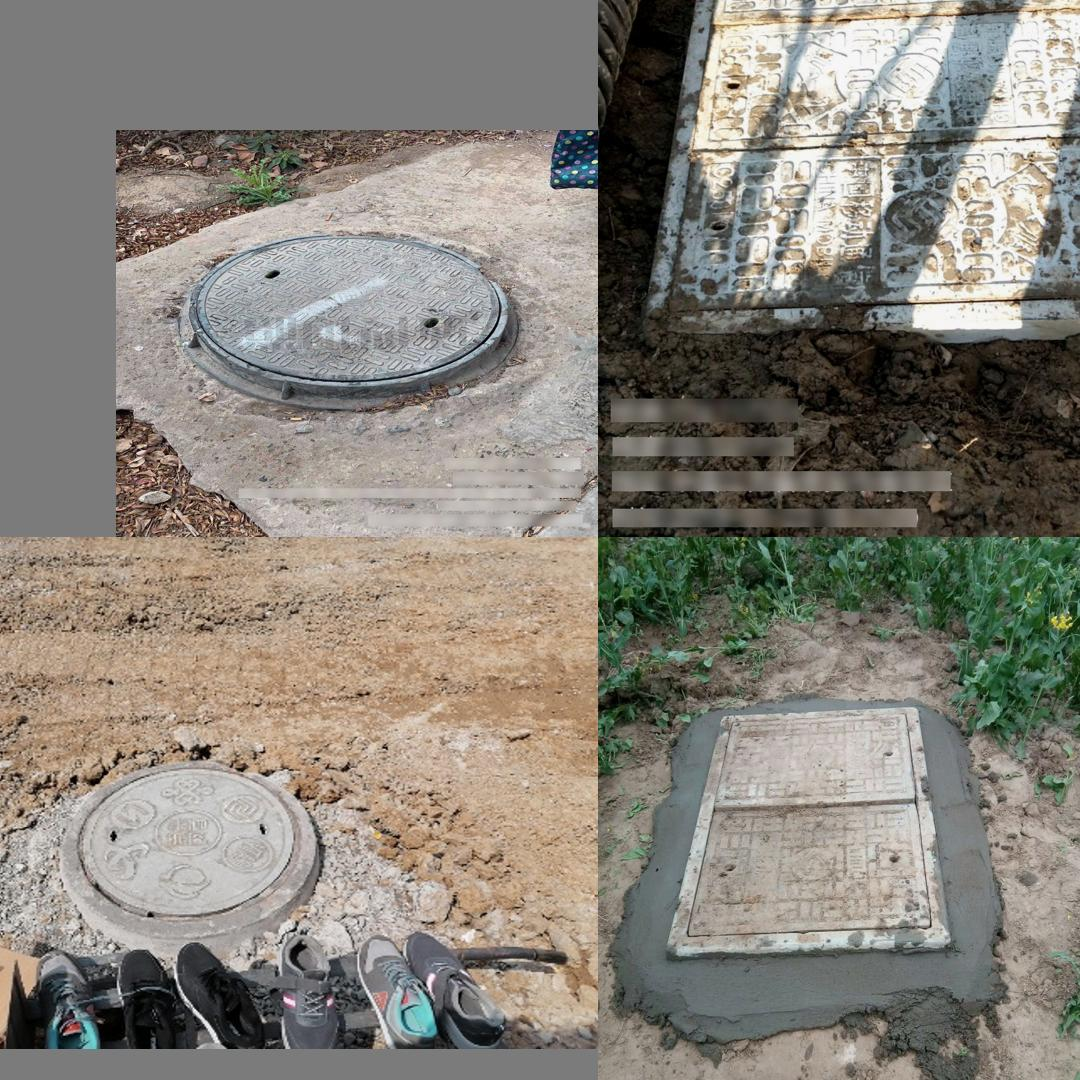good: (704, 0, 1080, 312), (664, 712, 947, 967), (189, 235, 509, 386), (61, 758, 320, 935)
